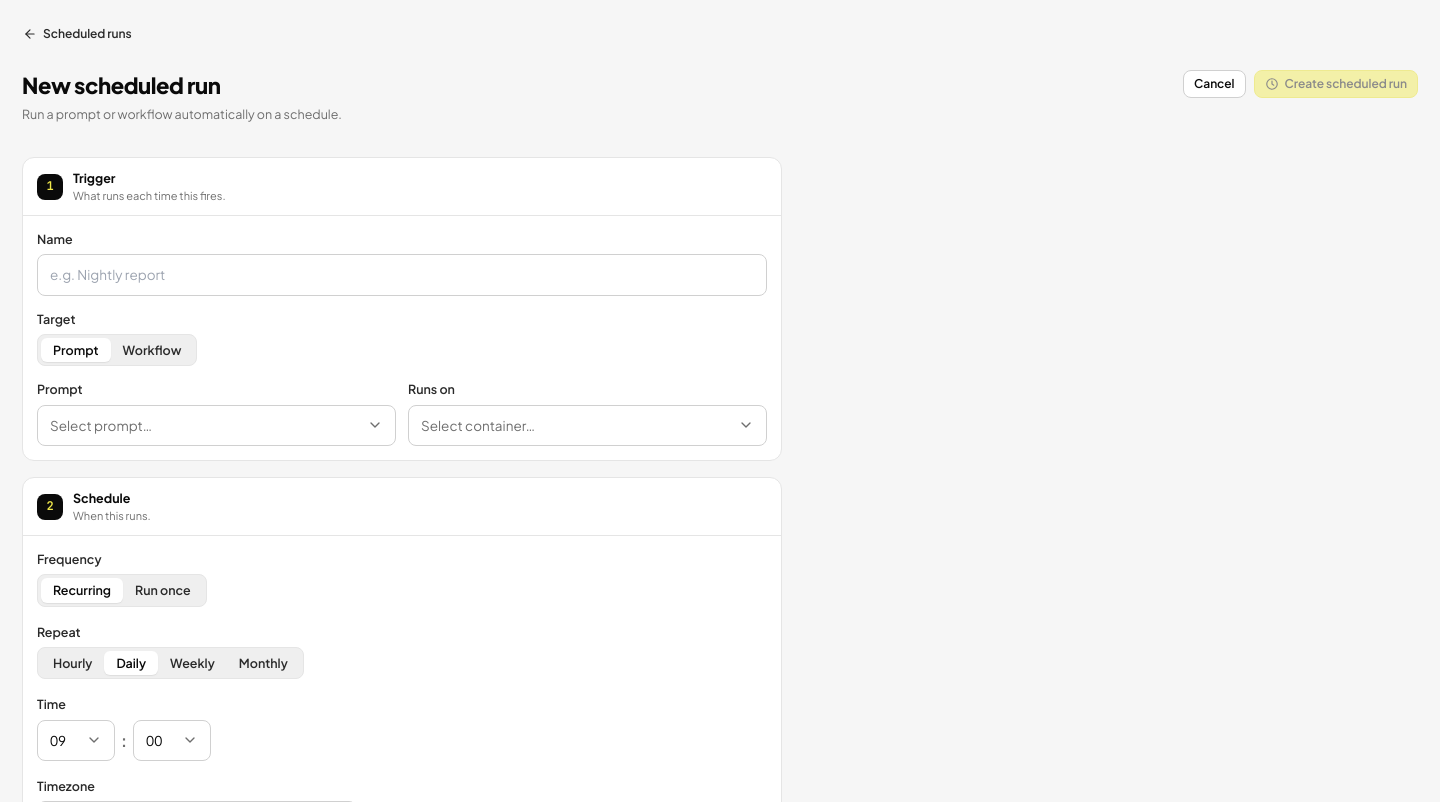
Scenario: ScheduledTaskForm › switching to Workflow reveals a workflow dropdown
The width and height of the screenshot is (1440, 802).
Note: Click the Workflow SegControl segment (only button named "Workflow" in prompt mode).
Click the button "Workflow" at (152, 350), box [111,338,193,362]
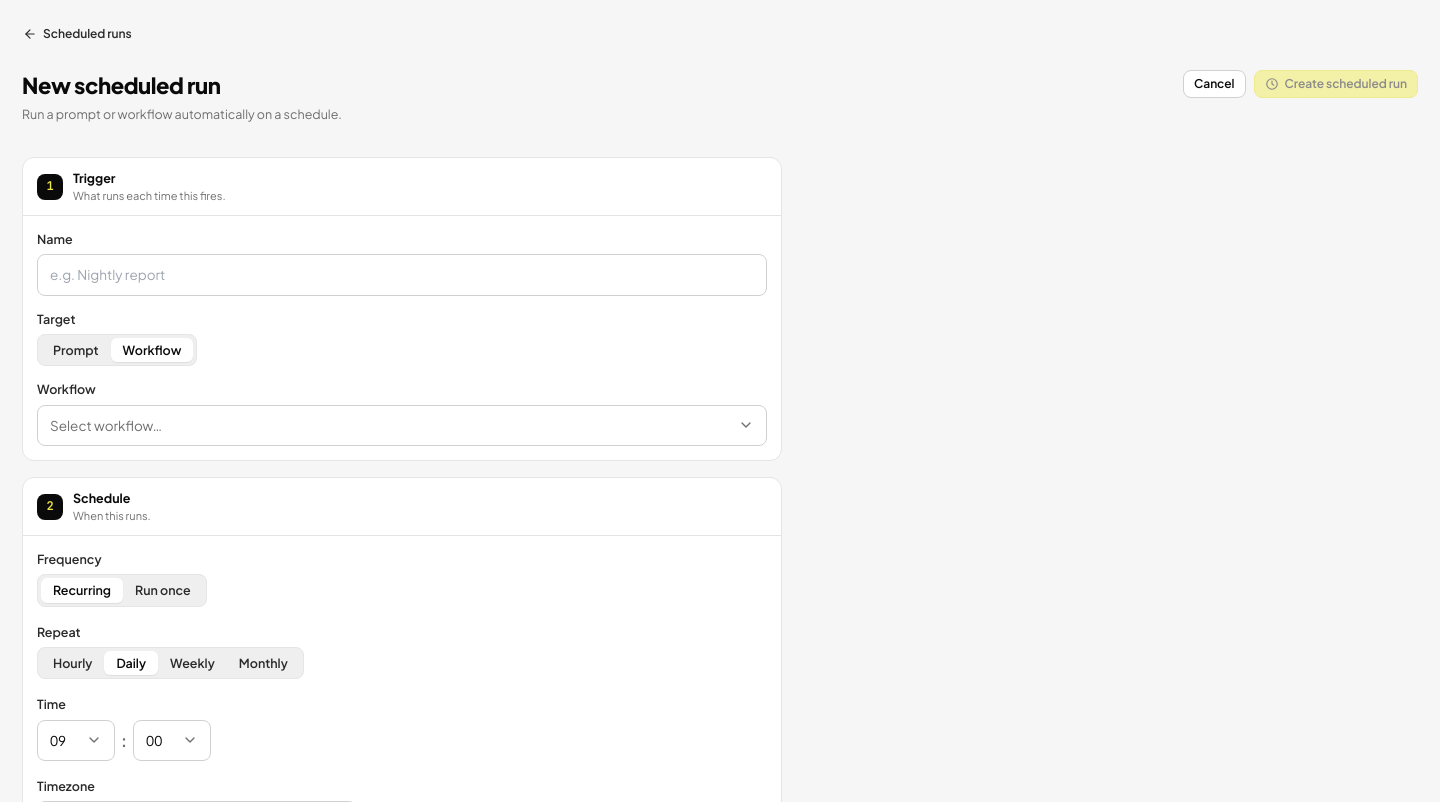
Expected: the button labelled "Select workflow…" is shown, [37,404,767,446]
